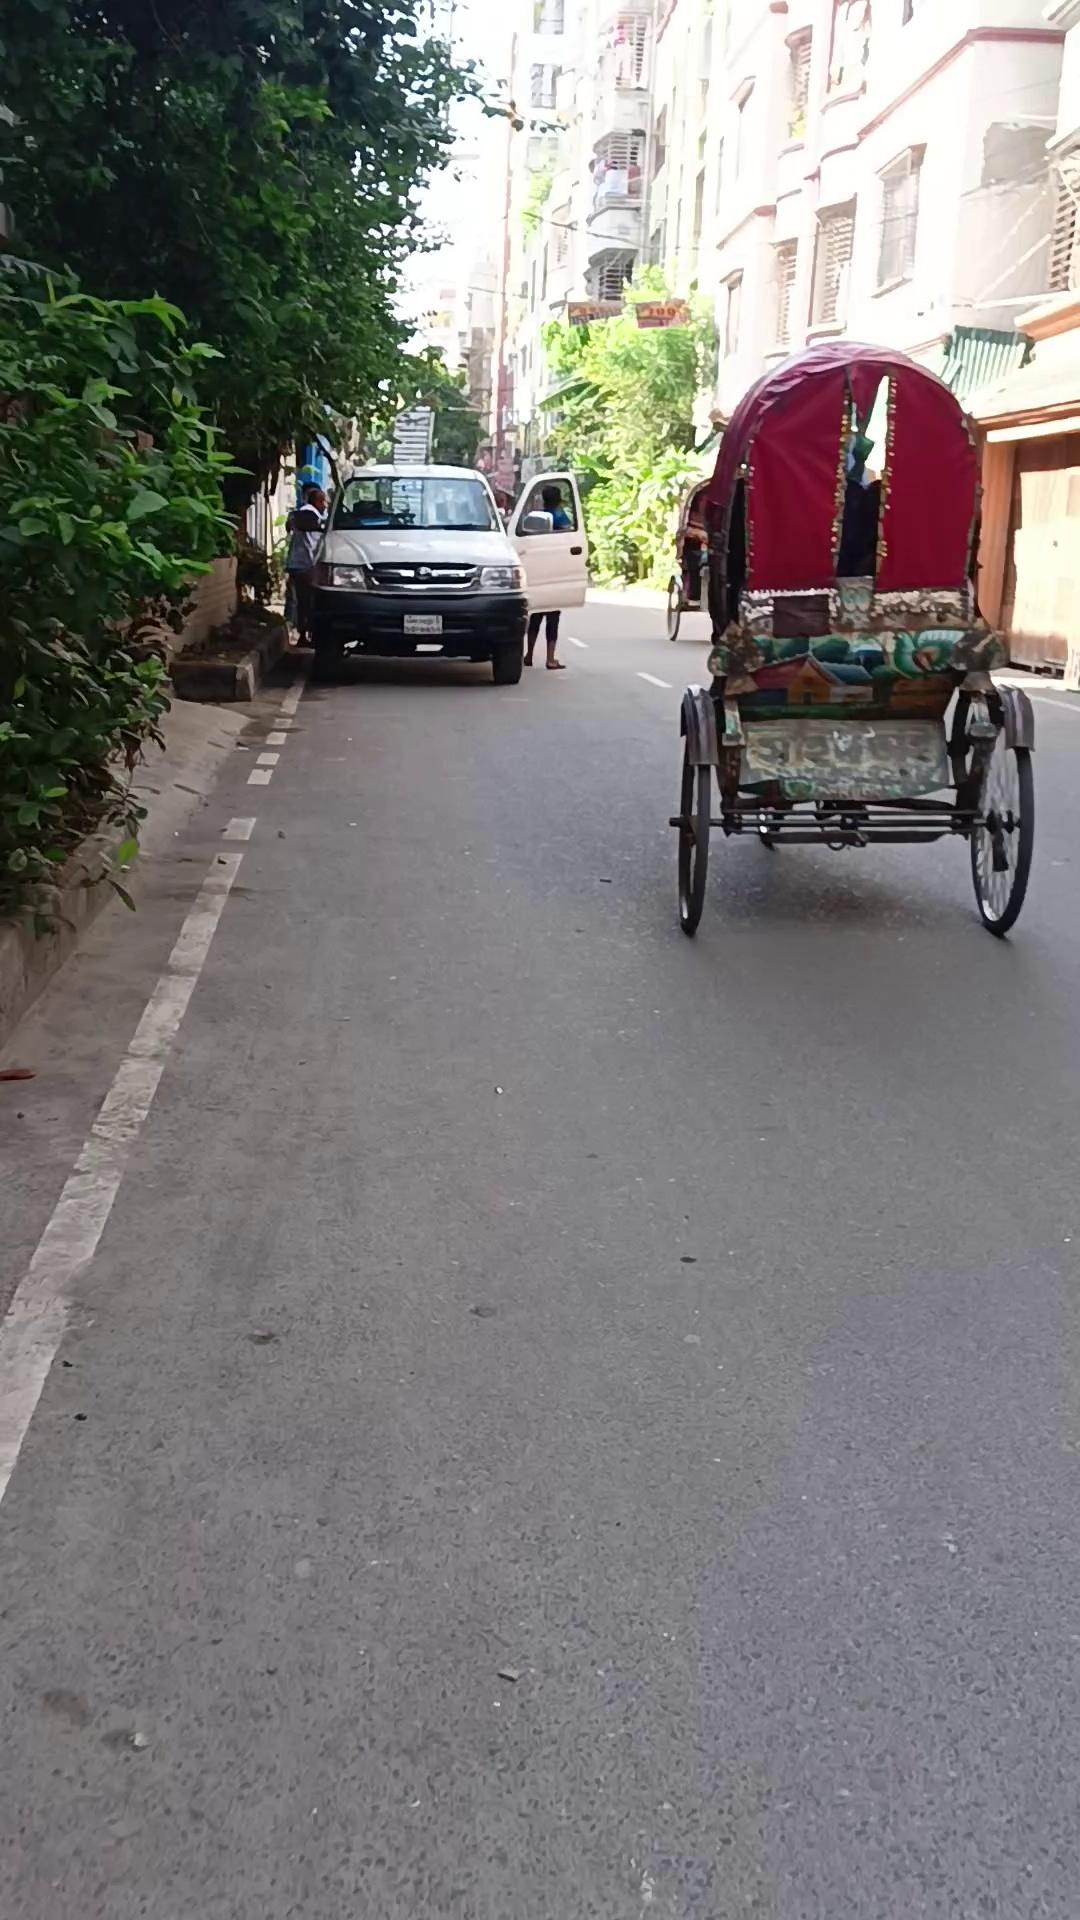Bollard: (302, 462, 589, 684)
Broken-road: (1, 688, 253, 1058)
Curb: (521, 484, 572, 669), (284, 483, 328, 647)
Fallen-tree: (621, 261, 688, 328)
Fence: (673, 347, 1042, 948)
Light-pole: (535, 258, 723, 589)
